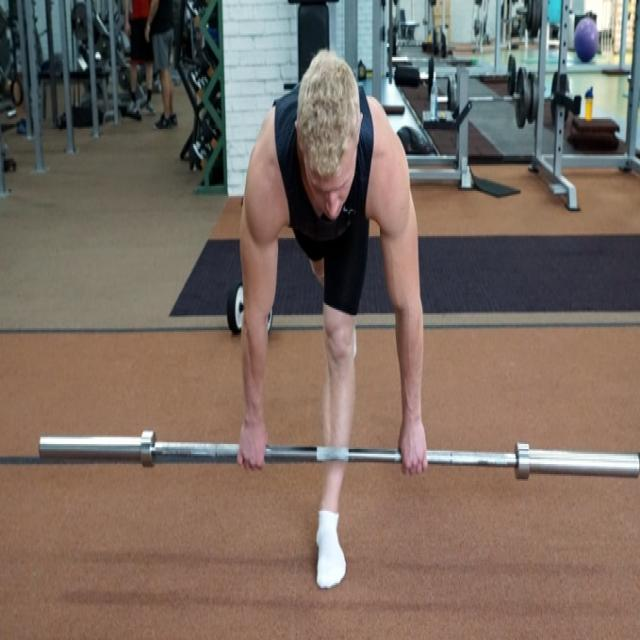deadlift: (90, 37, 640, 640)
